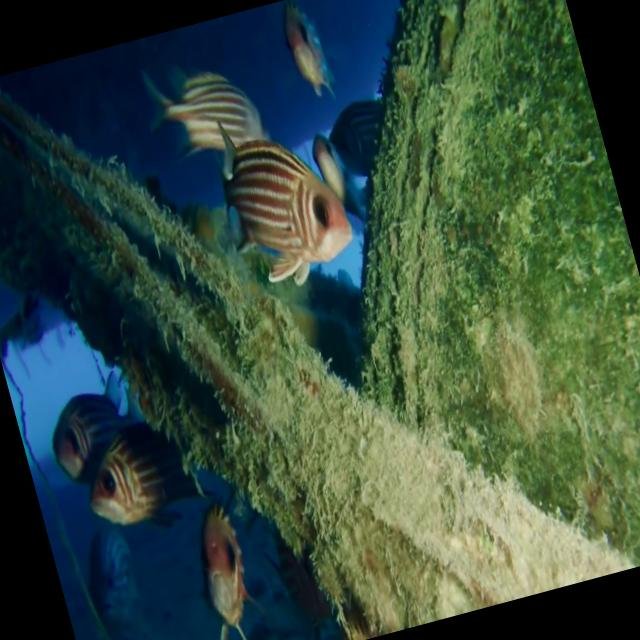Asker Baligi: (198, 92, 363, 300), (65, 416, 202, 556)
